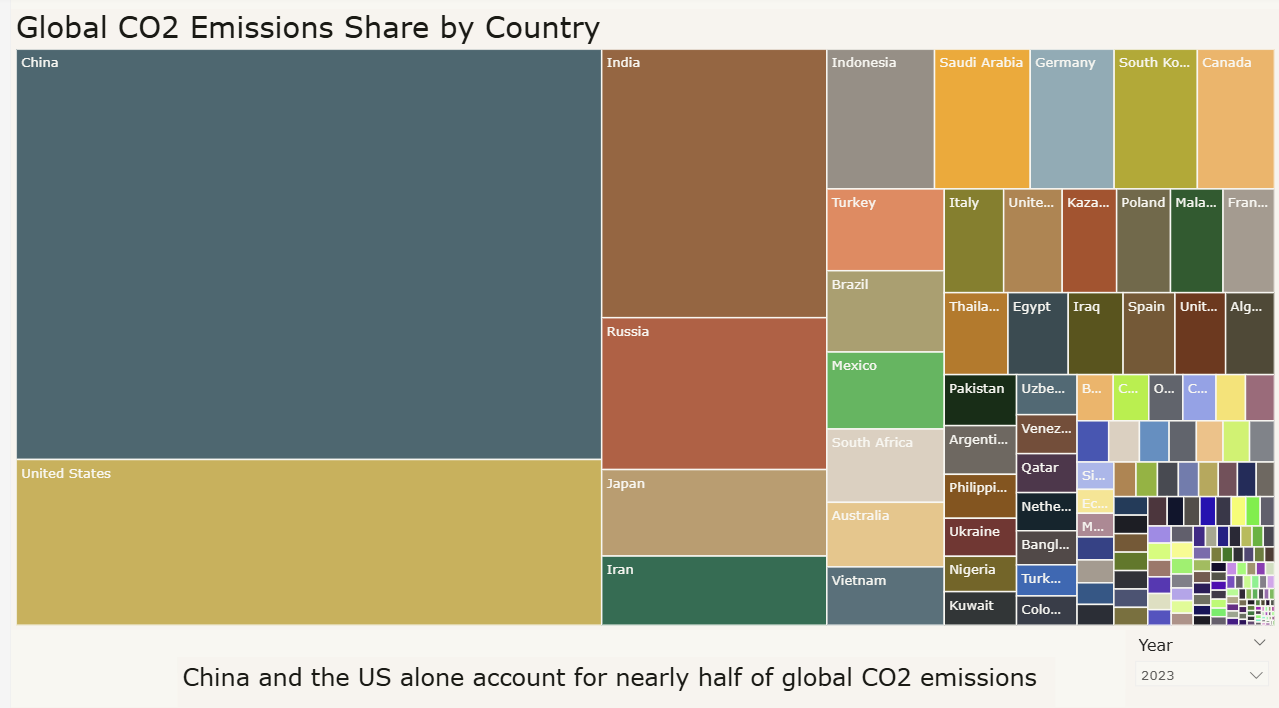

What the dashboard file says about the page in this screenshot:
{"tool":"powerbi","page":{"name":"tree co2 vs pop","canvas":[1280,720],"ordinal":1},"visuals":[{"type":"treemap","title":"Global CO2 Emissions Share by Country","fields":{"Values":["Sum(co2_vs_population_share.CO2_Share)"],"Group":["co2_vs_population_share.Country Name"]},"box":[0,15.4,1280.1,626.7],"z":0},{"type":"textbox","box":[168.1,669.3,869.2,51.5],"z":1000},{"type":"slicer","fields":{"Values":["global_co2_temp.Year"]},"box":[1125.1,642,154.4,77.2],"z":2000}]}

Visuals, with their boxes in screenshot pixels (x1, y1, x2, y2), scaled from the page's 1280x720 canvas onto the 1279x708 screenshot:
"Global CO2 Emissions Share by Country" treemap: (0, 15, 1278, 631)
textbox: (168, 658, 1036, 707)
slicer - global_co2_temp.Year: (1124, 631, 1278, 707)
